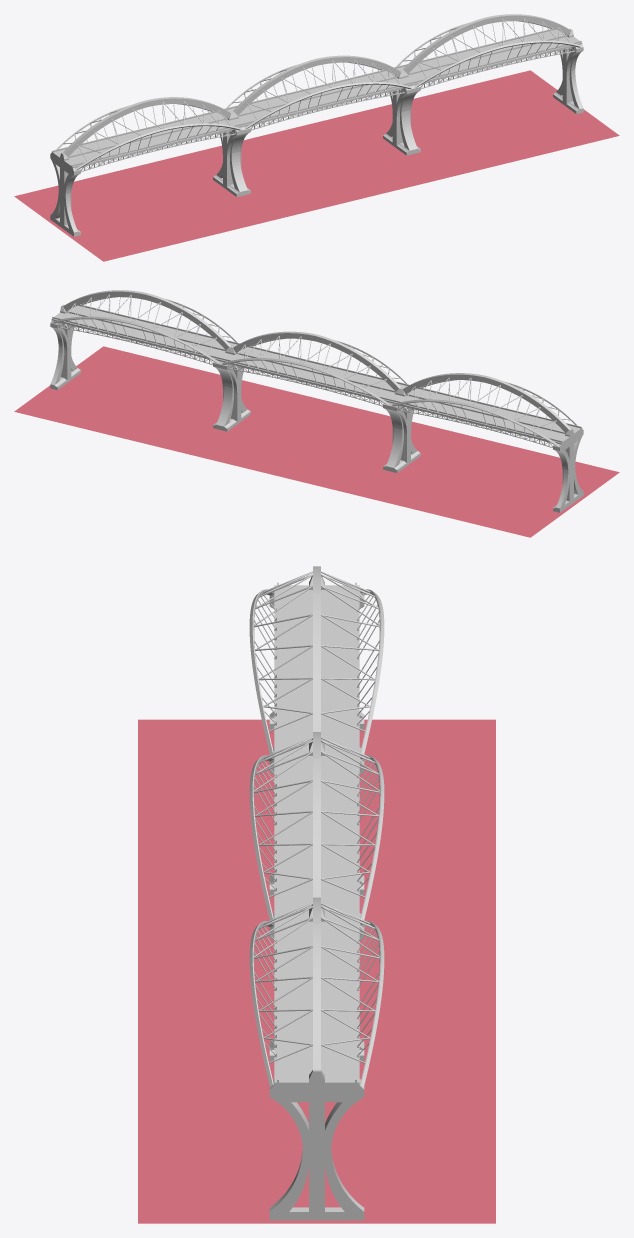
Rendered from bridge_pink.fbx.
3 views of the same model, one above another, from view 1: azimuth 30°, elevation 25°; view 2: azimuth 150°, elevation 25°; view 3: azimuth 270°, elevation 25° (orthographic). The views are drawn at different scales.
Visible parts, largest first — view 1: ree_ree, bridge2; view 2: ree_ree, bridge2; view 3: ree_ree, bridge2.
Boxes of the visible parts, <box> form: ree_ree: <box>14,70,619,261</box>; bridge2: <box>50,14,583,236</box>; ree_ree: <box>14,346,619,537</box>; bridge2: <box>50,290,583,512</box>; ree_ree: <box>138,719,495,1223</box>; bridge2: <box>249,566,384,1220</box>.
Size of the model in its own units: 10 by 1.97 by 3.
